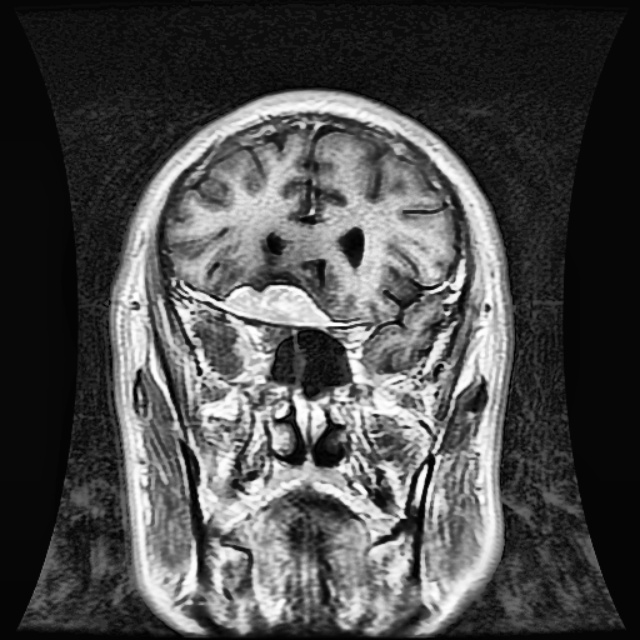Glioma: (222, 284, 330, 324)
